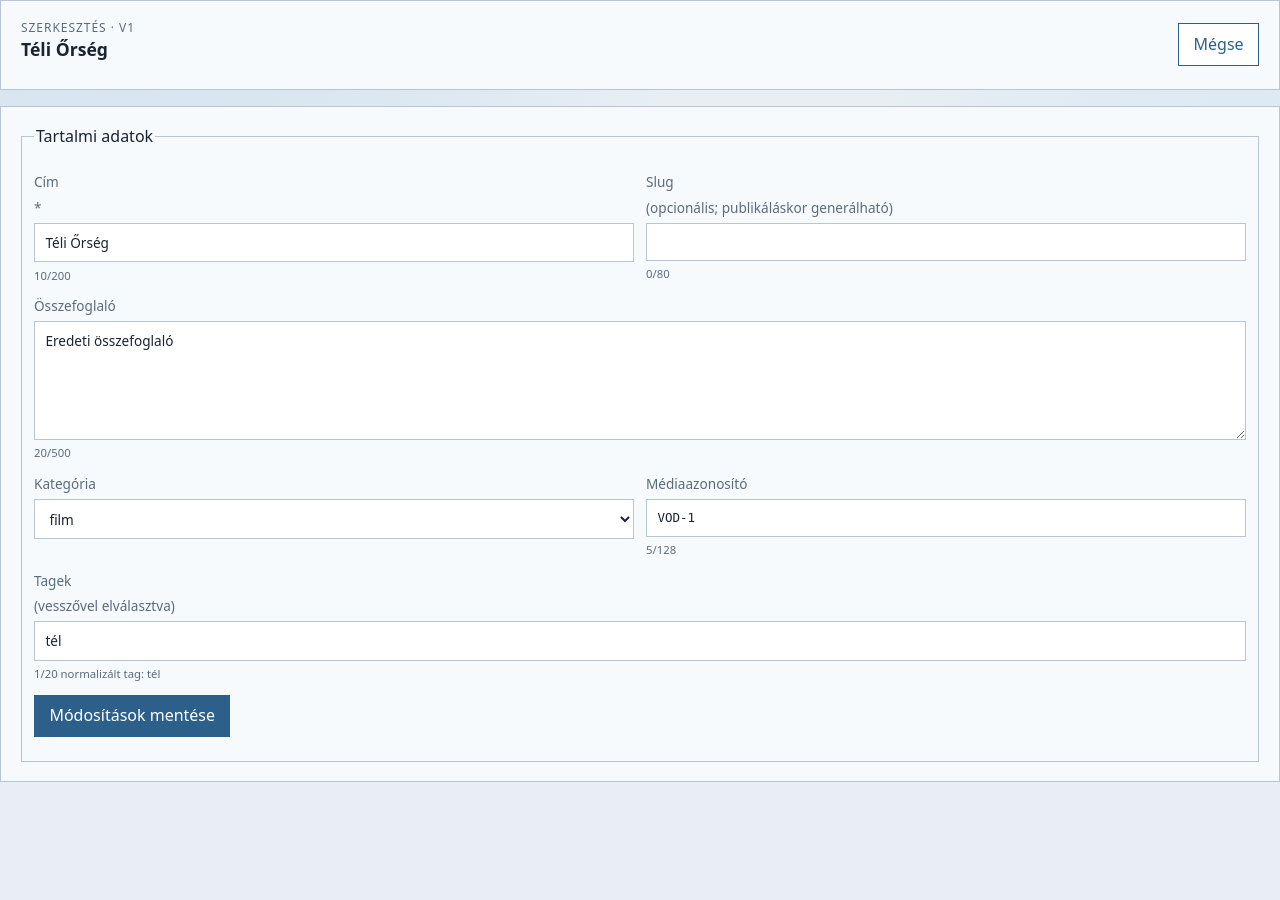
Test: ContentEditPage › keeps the local draft through a version conflict and never retries automatically
The image size is (1280, 900).
Replace the text in the text box labelled "Összefoglaló 20/500" with "Helyi szöveg" at x=640, y=381, box left=34, top=322, right=1246, bottom=440
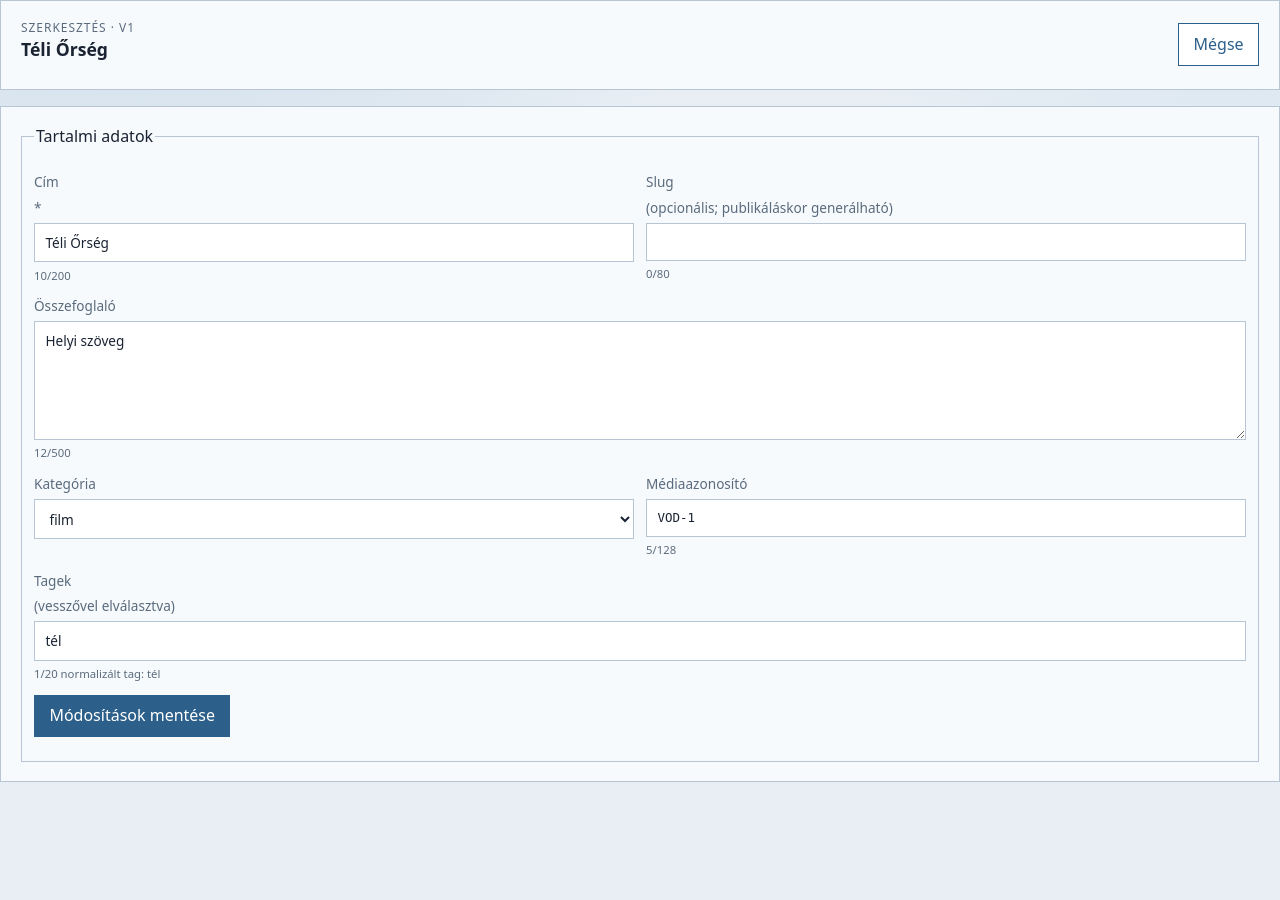
Click the button "Módosítások mentése" at x=132, y=716, box left=34, top=694, right=230, bottom=737
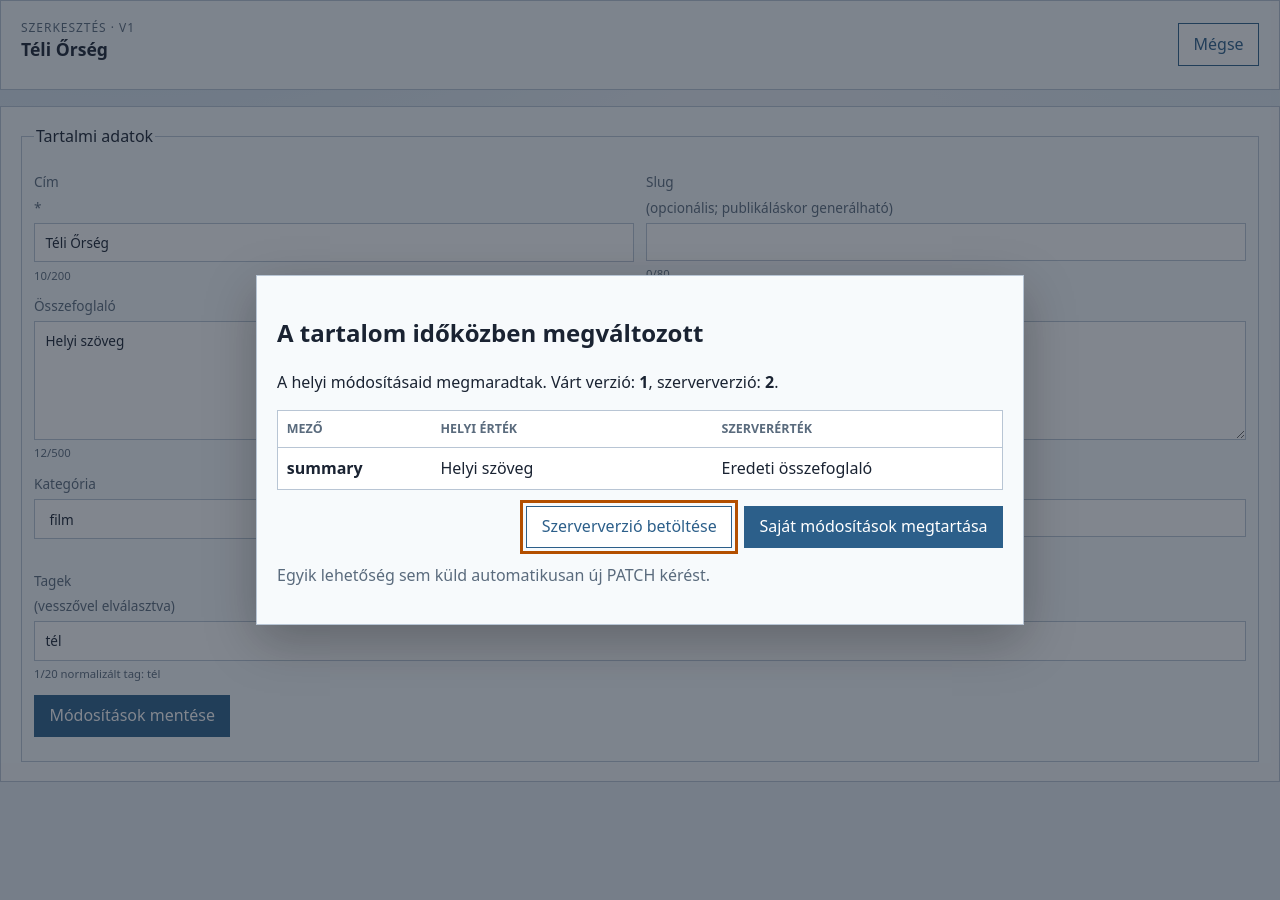
Check: the dialog is shown, box left=256, top=275, right=1024, bottom=625
Click the button "Saját módosítások megtartása" at x=874, y=527, box left=744, top=506, right=1003, bottom=548
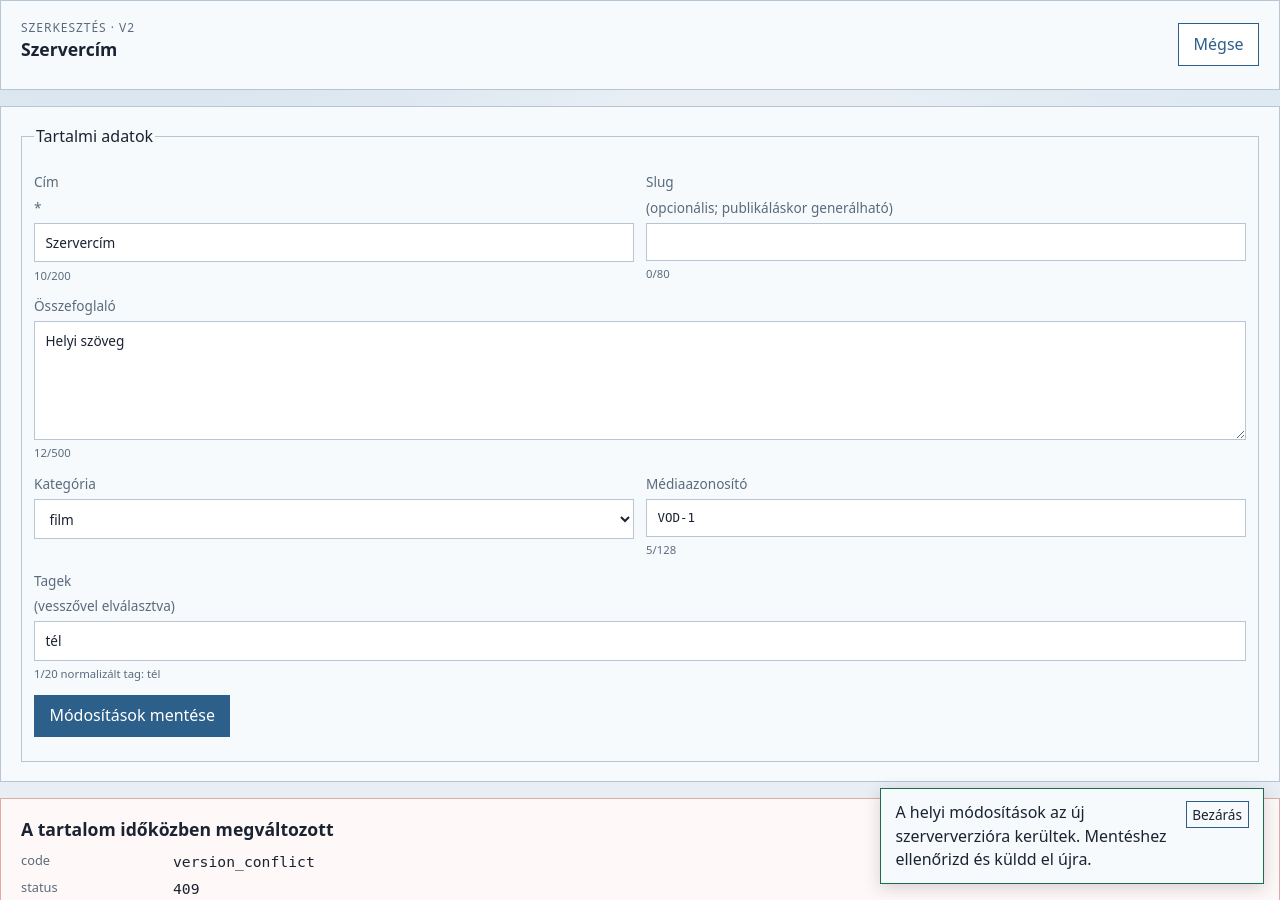
Check: the field labelled "Cím * 10/200" holds "Szervercím", box left=34, top=223, right=634, bottom=262
